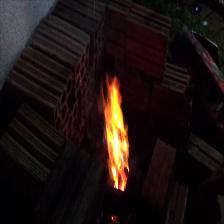fire: (99, 77, 132, 191)
